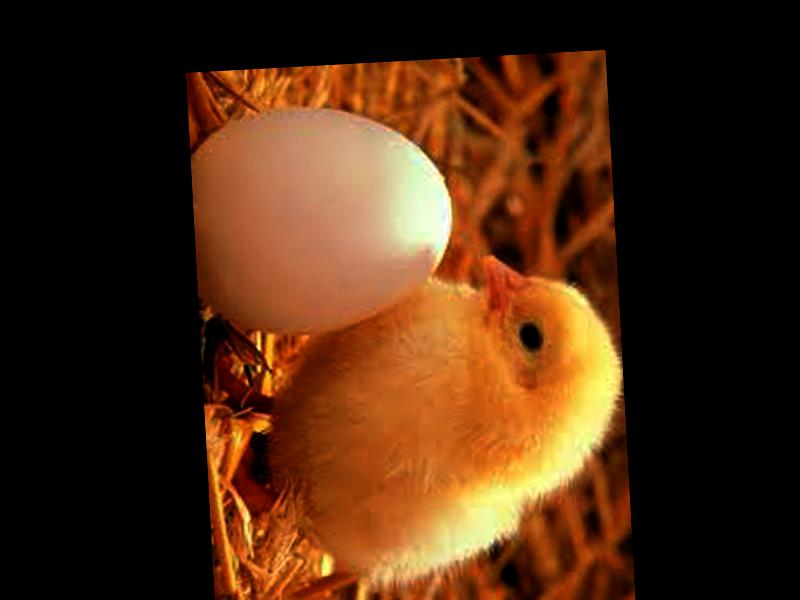Eggs: (187, 100, 459, 340)
